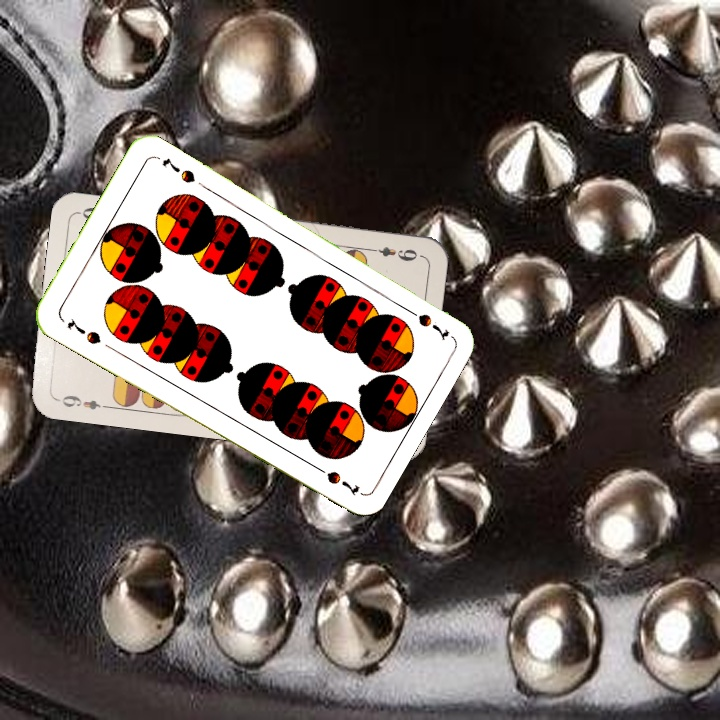E9: (53, 391, 112, 413), (364, 243, 423, 264)
S7: (399, 302, 452, 342), (63, 313, 104, 348)
